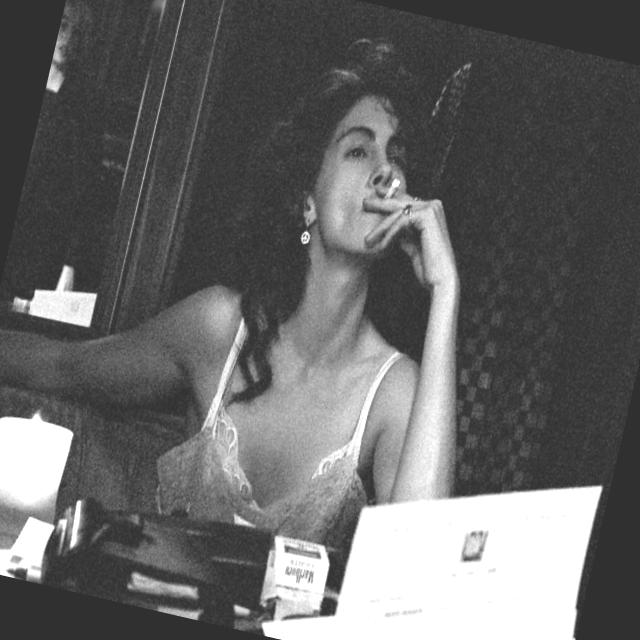cigarette: (384, 176, 403, 199)
